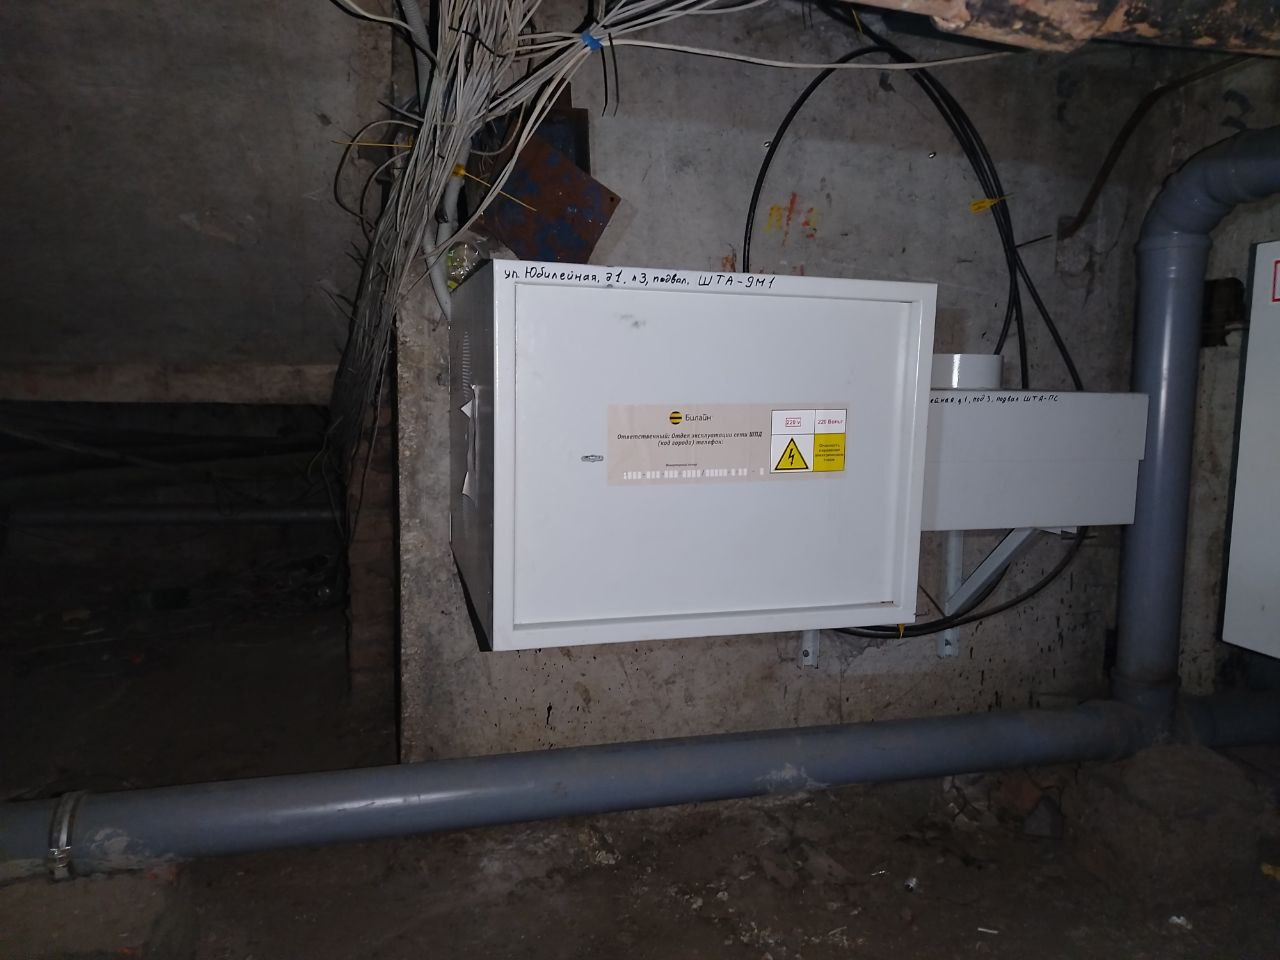shta-9m: (440, 249, 938, 655)
shta-ps: (924, 349, 1151, 533)
